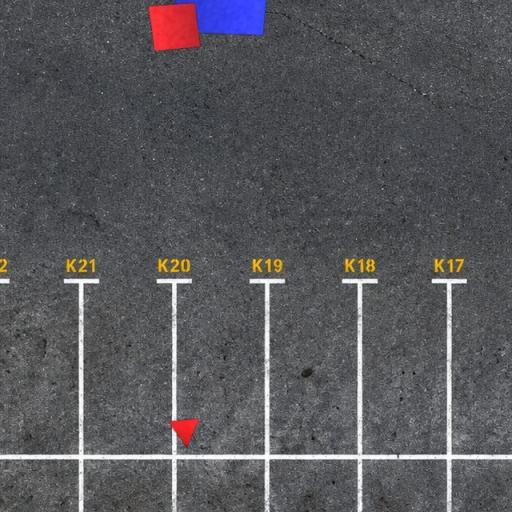RED_SQUARE: (148, 2, 202, 52)
